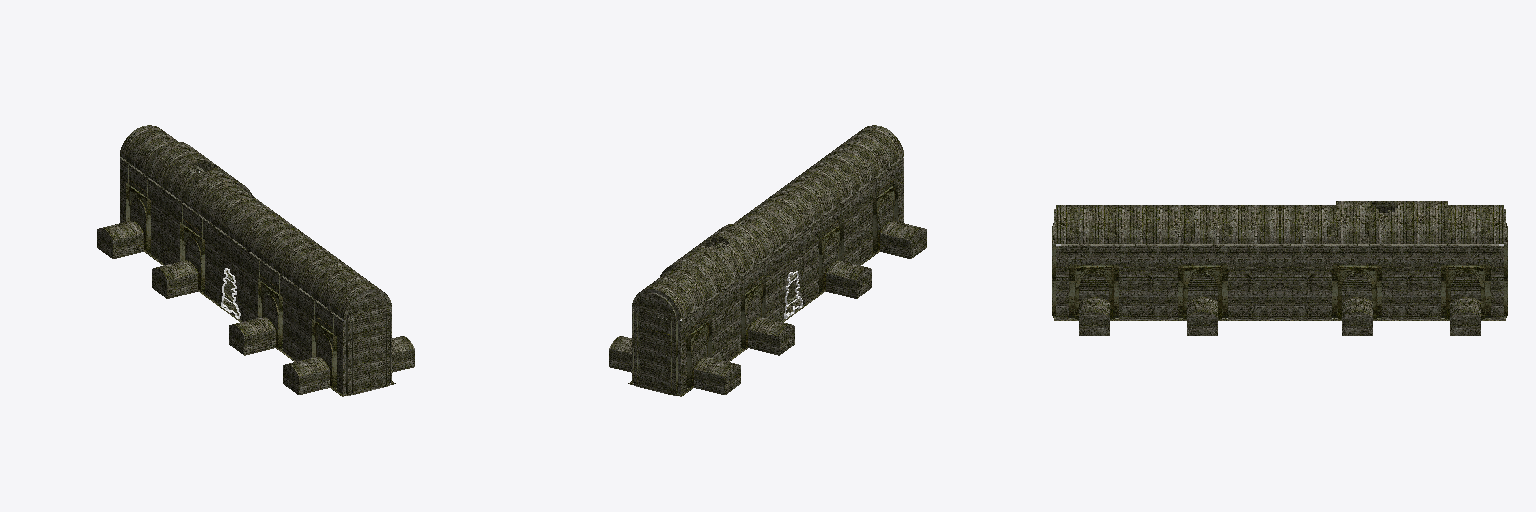
3 renders of one model, left to right at view 1: azimuth 30°, elevation 25°; view 2: azimuth 150°, elevation 25°; view 3: azimuth 270°, elevation 25°, orthographic.
Visible parts, largest first — view 1: mesh2, mesh3, mesh1; view 2: mesh2, mesh3, mesh1; view 3: mesh2, mesh3, mesh1.
Part boxes in pixels (bbox=[...]): mesh2: bbox=[97, 125, 414, 395]; mesh3: bbox=[126, 165, 390, 394]; mesh1: bbox=[121, 157, 395, 396]; mesh2: bbox=[609, 125, 926, 395]; mesh3: bbox=[633, 165, 897, 394]; mesh1: bbox=[628, 157, 902, 396]; mesh2: bbox=[1054, 201, 1505, 335]; mesh3: bbox=[1052, 226, 1507, 318]; mesh1: bbox=[1053, 223, 1506, 320].
Bounding box in the file's own units: 8.52 × 7.35 × 29.03.
Materials: 7 (4 with a texture image).